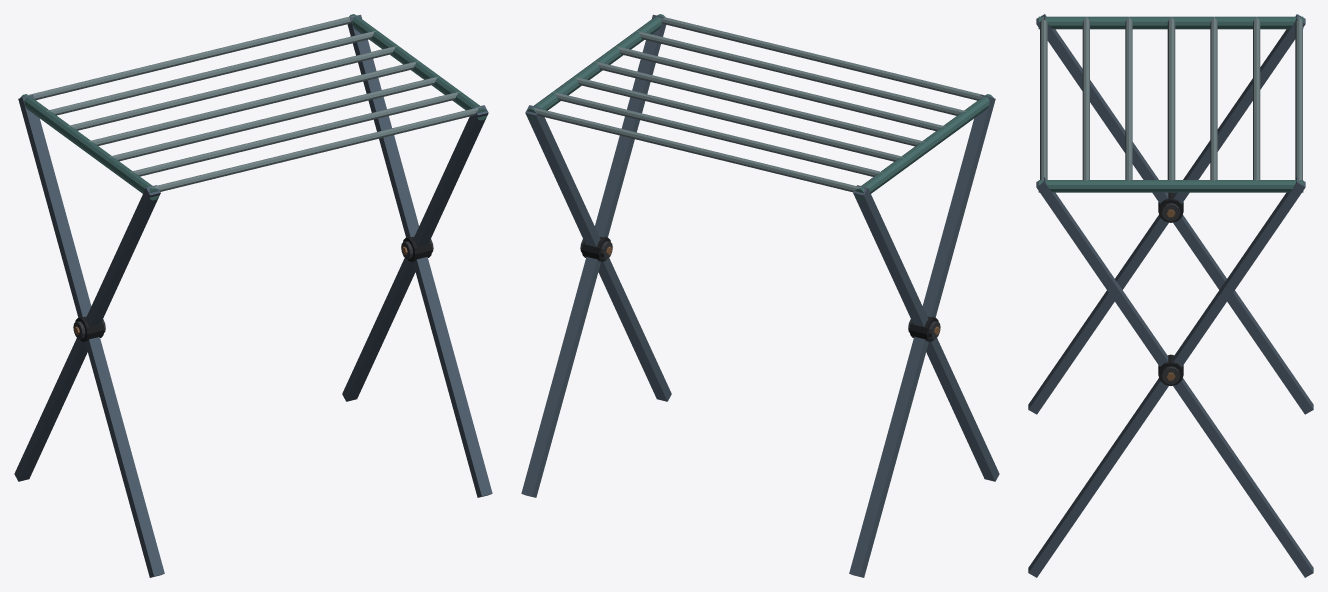
File: G-09_drying_rack.glb
3 renders of one model, left to right at view 1: azimuth 30°, elevation 25°; view 2: azimuth 150°, elevation 25°; view 3: azimuth 270°, elevation 25°, orthographic. The views are drawn at different scales.
Visible parts, largest first — view 1: G-09_drying_rack; view 2: G-09_drying_rack; view 3: G-09_drying_rack.
Boxes of the visible parts, left/top/right/bottom form: G-09_drying_rack: left=14, top=14, right=492, bottom=577; G-09_drying_rack: left=521, top=14, right=999, bottom=577; G-09_drying_rack: left=1028, top=14, right=1313, bottom=577.
Size of the model in its own units: 0.786 by 0.8201 by 0.5361.
